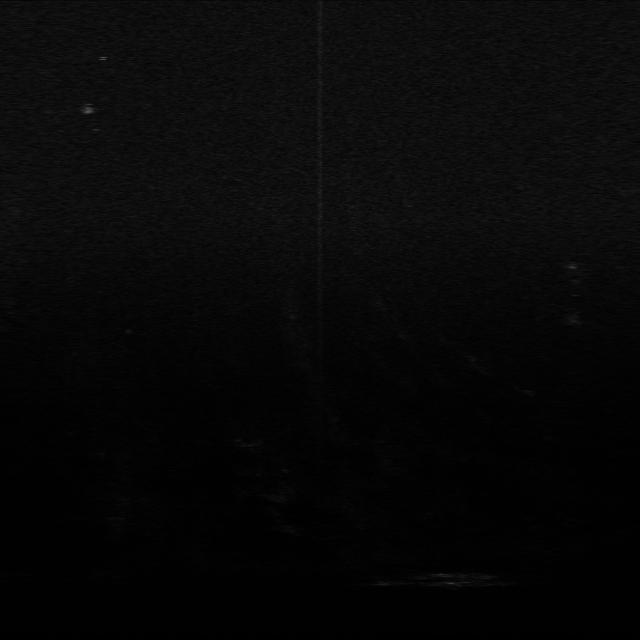rov: (72, 96, 103, 117)
